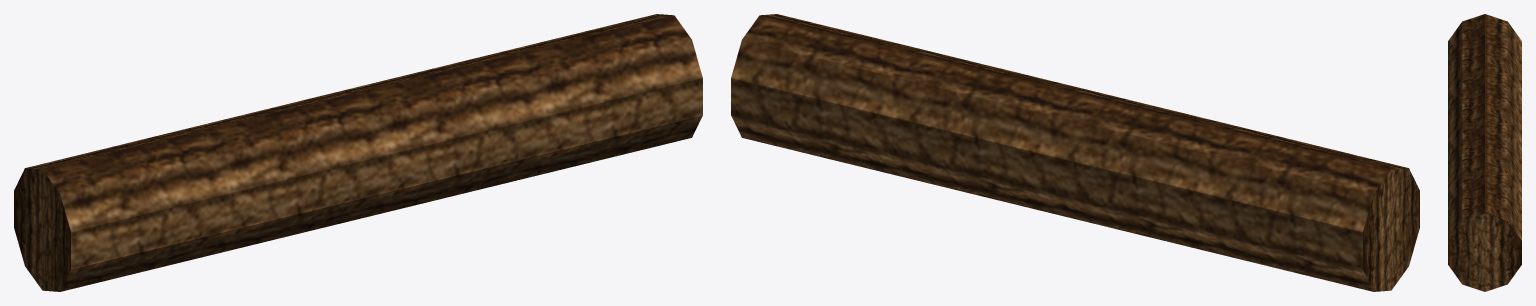
The model's file is VEG0210038.fbx.
3 renders of one model, left to right at view 1: azimuth 30°, elevation 25°; view 2: azimuth 150°, elevation 25°; view 3: azimuth 270°, elevation 25°, orthographic. The views are drawn at different scales.
Parts seen in each view (by area): view 1: smVEG0210038; view 2: smVEG0210038; view 3: smVEG0210038.
Part boxes in pixels (x1,y1,x2,y2): smVEG0210038: [14, 14, 702, 291]; smVEG0210038: [731, 14, 1419, 291]; smVEG0210038: [1448, 14, 1521, 291].
Bounding box in the file's own units: 407 × 74.53 × 63.46.
1 material, 1 textured.
